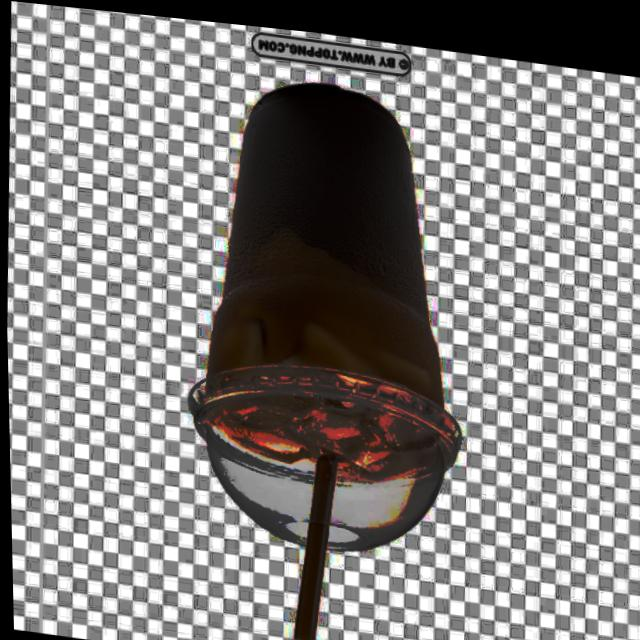drink: (196, 82, 450, 553)
